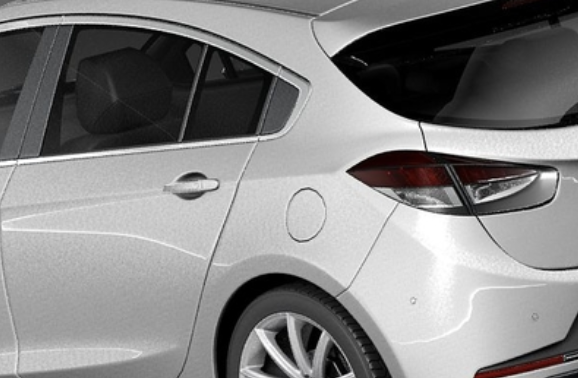hatch: (283, 185, 329, 246)
